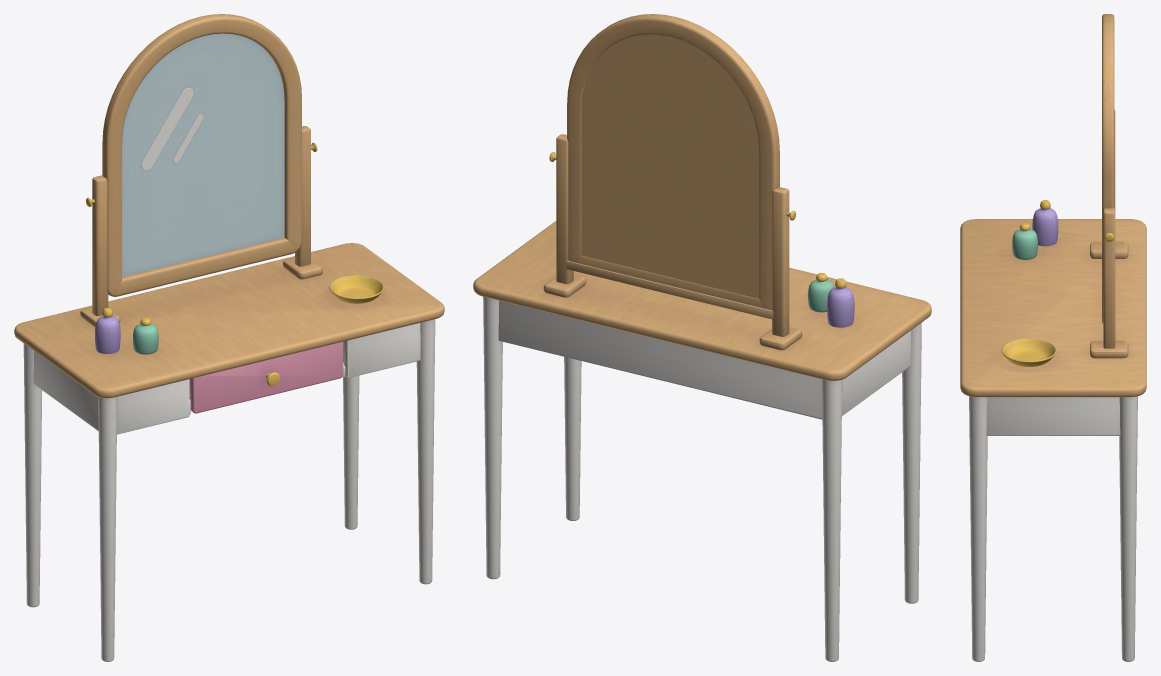
Rendered from vanity-table.glb.
The picture shows the model from 3 angles, left to right: view 1: azimuth 30°, elevation 25°; view 2: azimuth 150°, elevation 25°; view 3: azimuth 270°, elevation 25°; orthographic projection. The views are drawn at different scales.
Parts seen in each view (by area): view 1: vanity-table_body, vanity-table_drawer; view 2: vanity-table_body; view 3: vanity-table_body.
Part boxes in pixels (x1,y1,x2,y2): vanity-table_body: (14,14,444,661); vanity-table_drawer: (189,342,343,413); vanity-table_body: (473,14,931,661); vanity-table_body: (960,14,1146,661).
Size of the model in its own units: 1 by 1.52 by 0.46.
2 materials, 2 textured.
